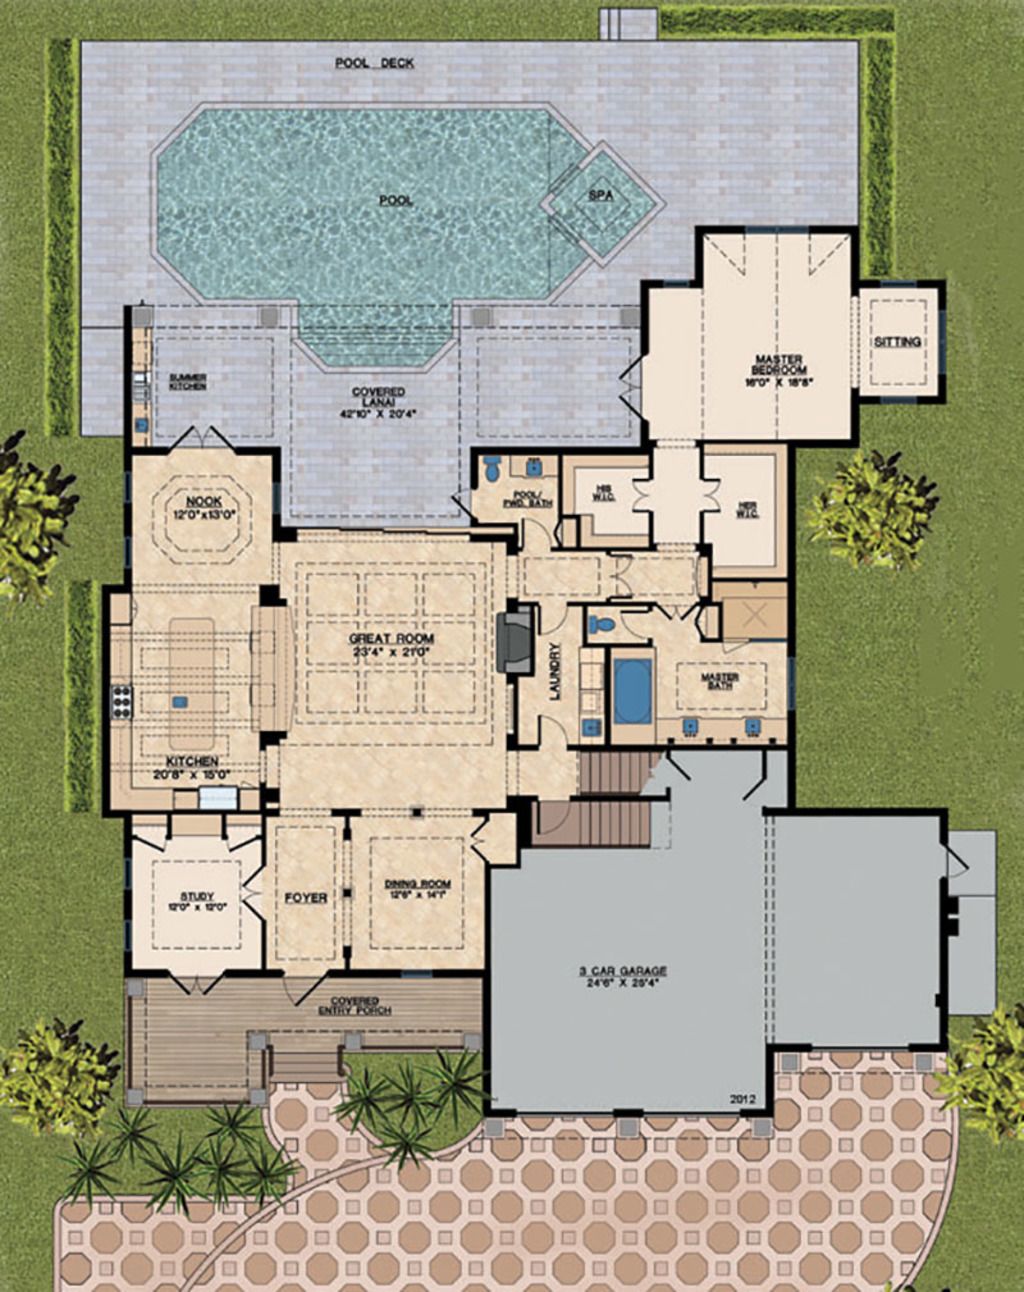door: (164, 421, 234, 455), (275, 974, 323, 1008), (514, 515, 549, 552), (536, 599, 567, 637), (543, 722, 574, 755), (700, 471, 722, 517), (633, 478, 655, 512)
stairs: (574, 749, 656, 852)
